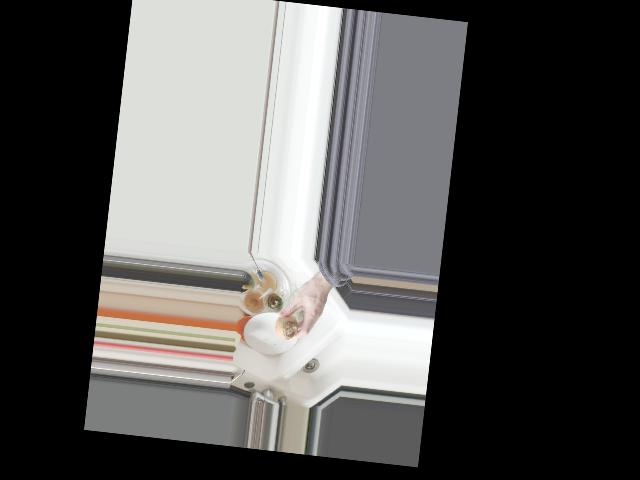sweet_potato: (272, 308, 301, 342)
